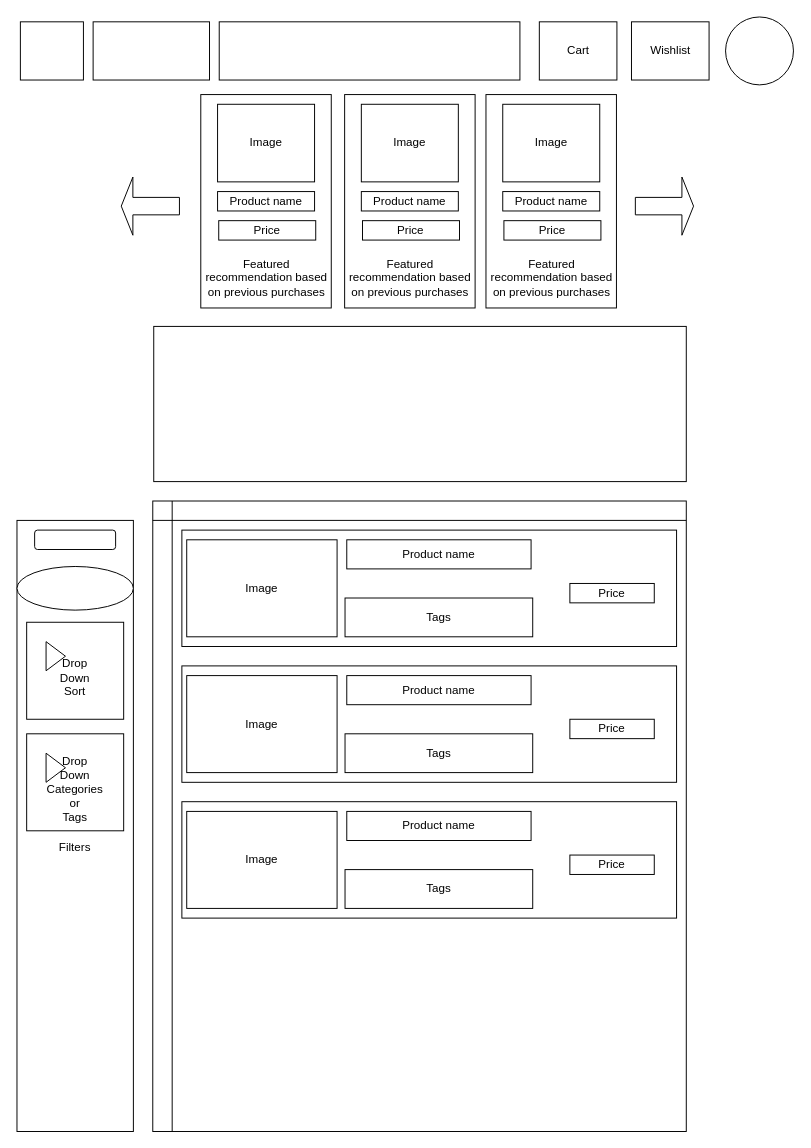
This 811x1148 diagram has some shape labels left out. The shapes that lost their labels are listed below. From the top down, each one's centre as x and y in pixels, then its label:
At [51,50]: "Home".
At [151,50]: "Recommendations".
At [369,50]: "Search bar".
At [759,50]: "User Profile".
At [419,403]: "Type name or description to get recommendations".
At [75,539]: "Price slider".
At [74,588]: "Discounts Filter".
